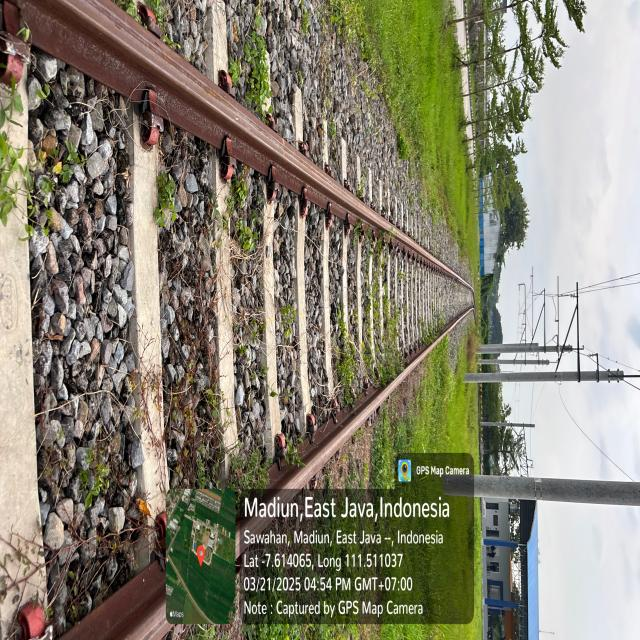rail-detection: (21, 0, 474, 301), (17, 0, 434, 260), (280, 309, 470, 489)
